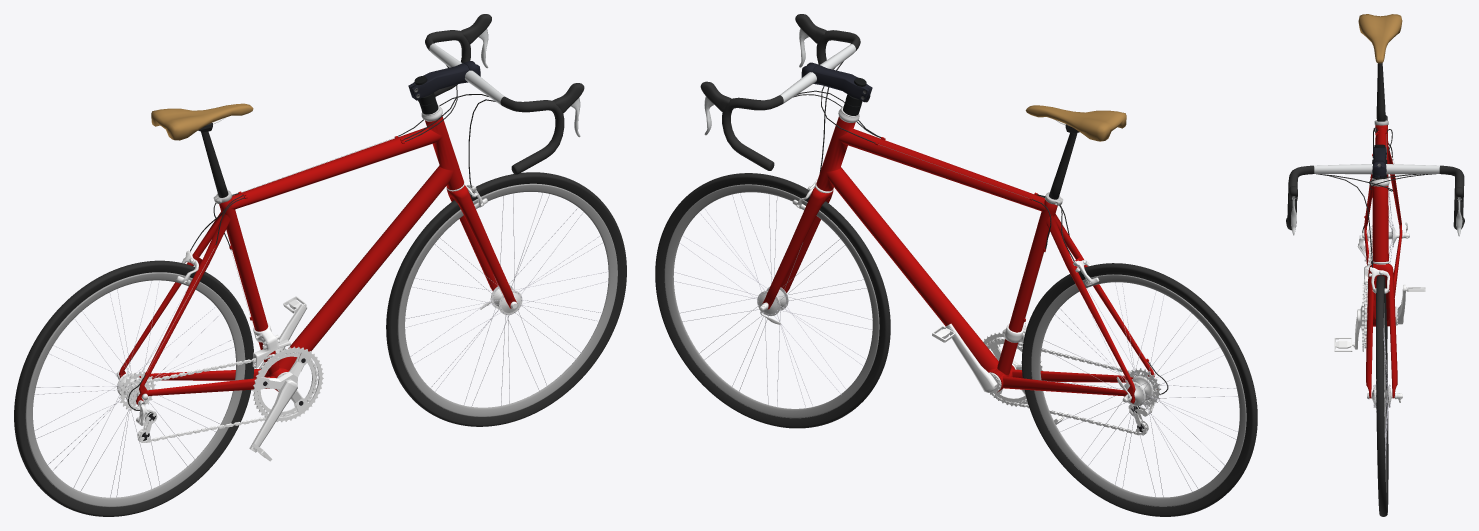
File: ElectricBike.glb
3 renders of one model, left to right at view 1: azimuth 30°, elevation 25°; view 2: azimuth 150°, elevation 25°; view 3: azimuth 270°, elevation 25°, orthographic. The views are drawn at different scales.
Parts seen in each view (by area): view 1: roadbike.1.0; view 2: roadbike.1.0; view 3: roadbike.1.0.
Part boxes in pixels (left/top/right/bottom): roadbike.1.0: left=14, top=14, right=626, bottom=516; roadbike.1.0: left=655, top=14, right=1257, bottom=516; roadbike.1.0: left=1286, top=14, right=1464, bottom=516.
Bounding box in the file's own units: 1.63 × 1 × 0.4716.
